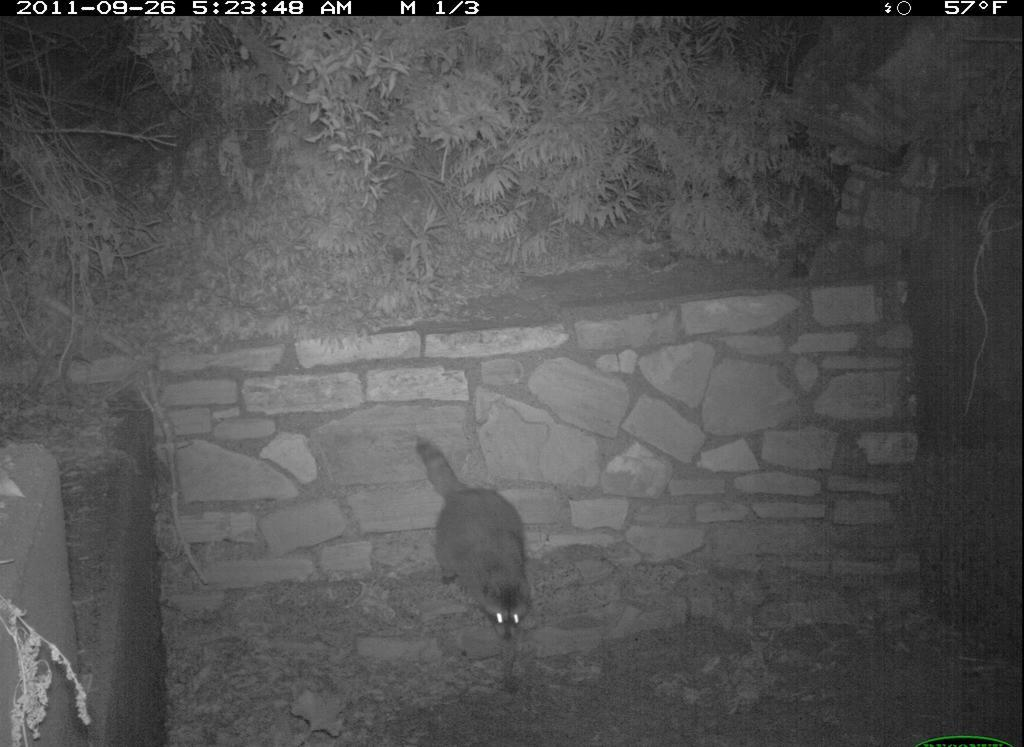raccoon: (413, 432, 539, 699)
